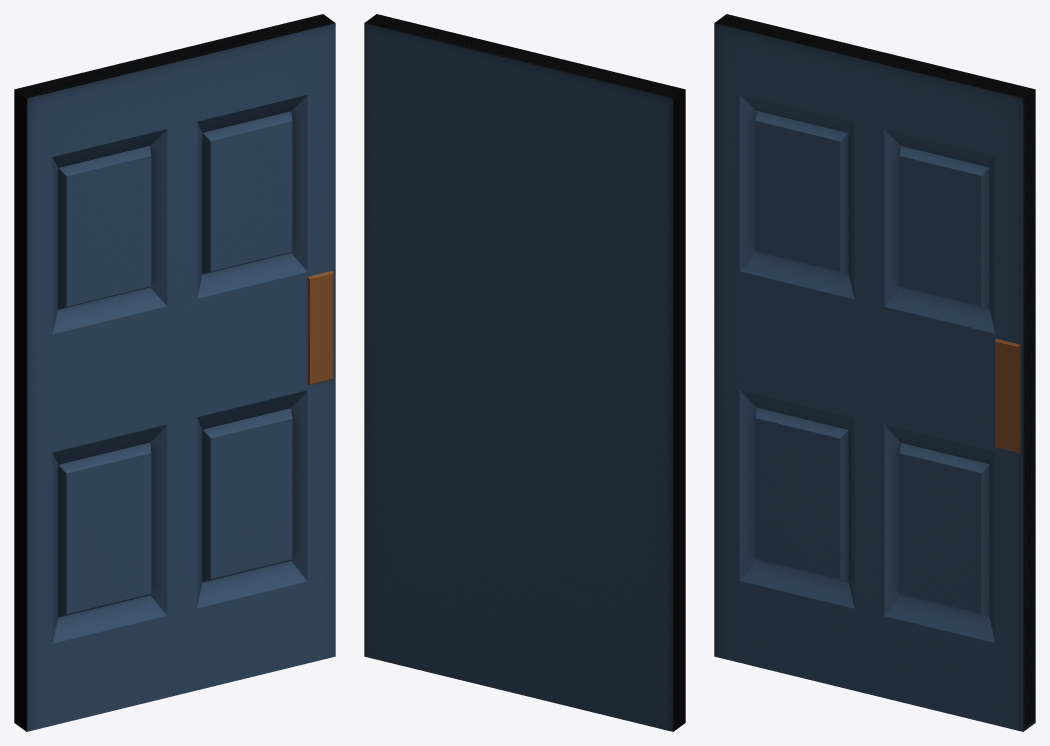
Rendered from Blue_door.fbx.
3 views of the same model, side by side, from view 1: azimuth 30°, elevation 25°; view 2: azimuth 150°, elevation 25°; view 3: azimuth 330°, elevation 25° (orthographic).
Parts seen in each view (by area): view 1: Cube.014; view 2: Cube.014; view 3: Cube.014.
Boxes of the visible parts, x1=… form: Cube.014: x1=14, y1=14, x2=335, y2=731; Cube.014: x1=364, y1=14, x2=685, y2=731; Cube.014: x1=714, y1=14, x2=1035, y2=731.
Size of the model in its own units: 306 by 599 by 23.44.
